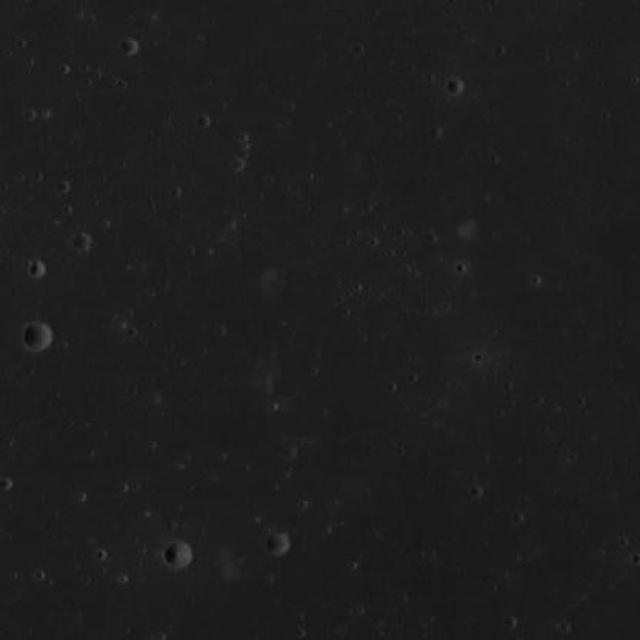crater: (24, 322, 52, 350), (264, 530, 290, 556), (164, 542, 190, 568), (72, 233, 90, 250), (120, 37, 138, 54), (29, 260, 46, 277), (446, 78, 463, 94)
